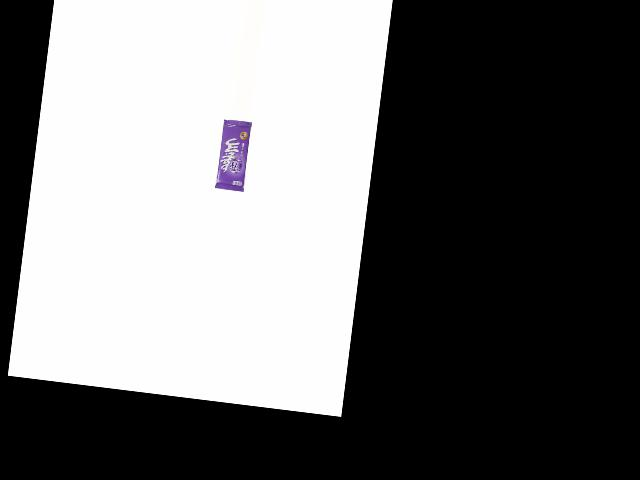chocolate: (213, 118, 255, 196)
